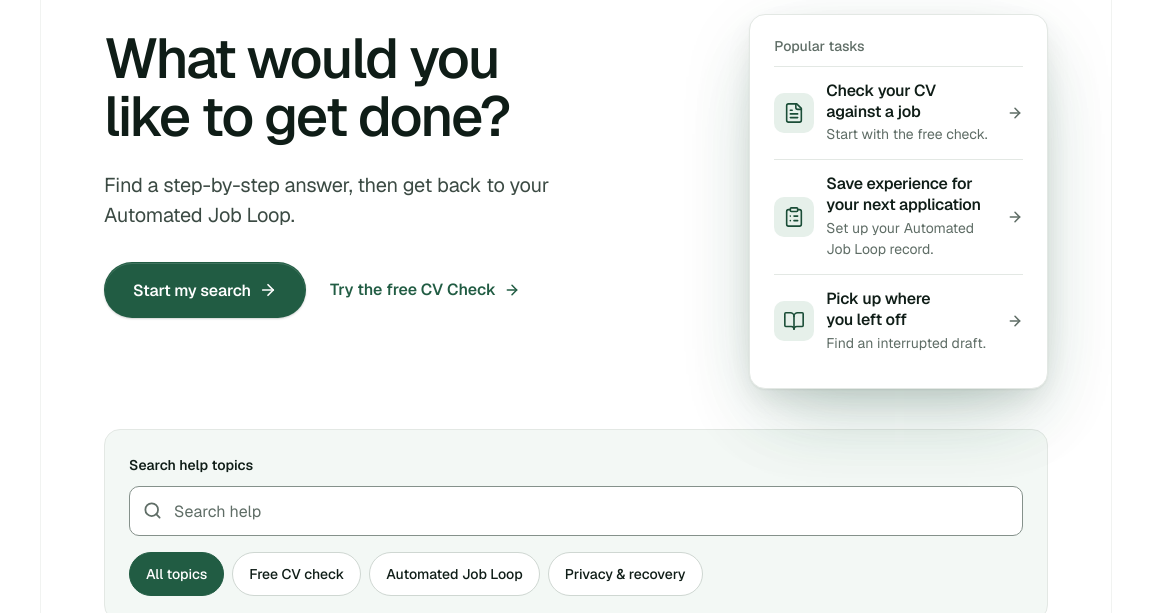
Test: task-focused public help › filters by task, announces results and recovers from an empty search
Click the button "Privacy & recovery" at point(625, 574), box [548,552,703,596]
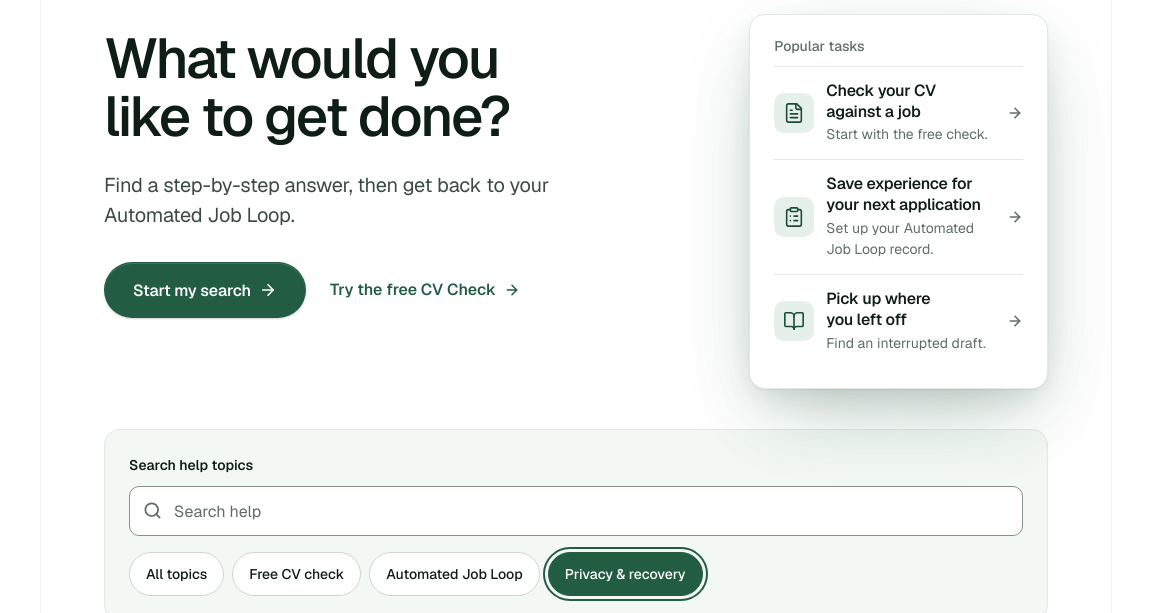
expect the button "Privacy & recovery" is pressed: met, box [548,552,703,596]
Type "no-such-help-topic" into the search field at point(576, 511), box [129,486,1023,536]
(page scrolled)
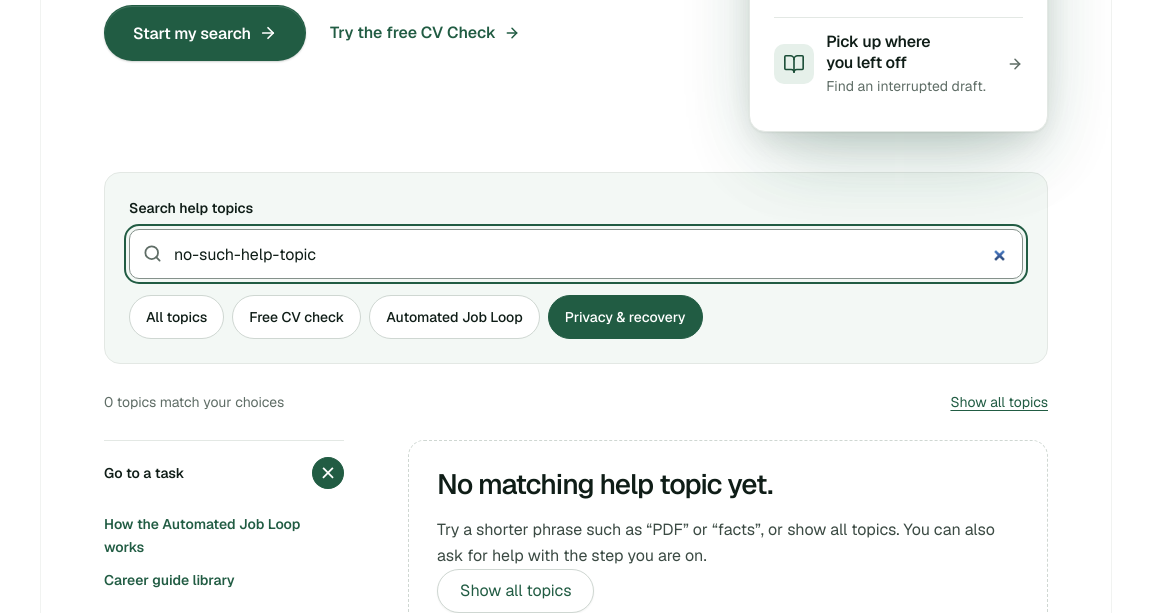
expect the heading "No matching help topic yet." is shown: met, box [437,466,772,502]
Click the button "Show all topics" in the row of "match your choices" at point(999, 402), box [950,380,1048,424]
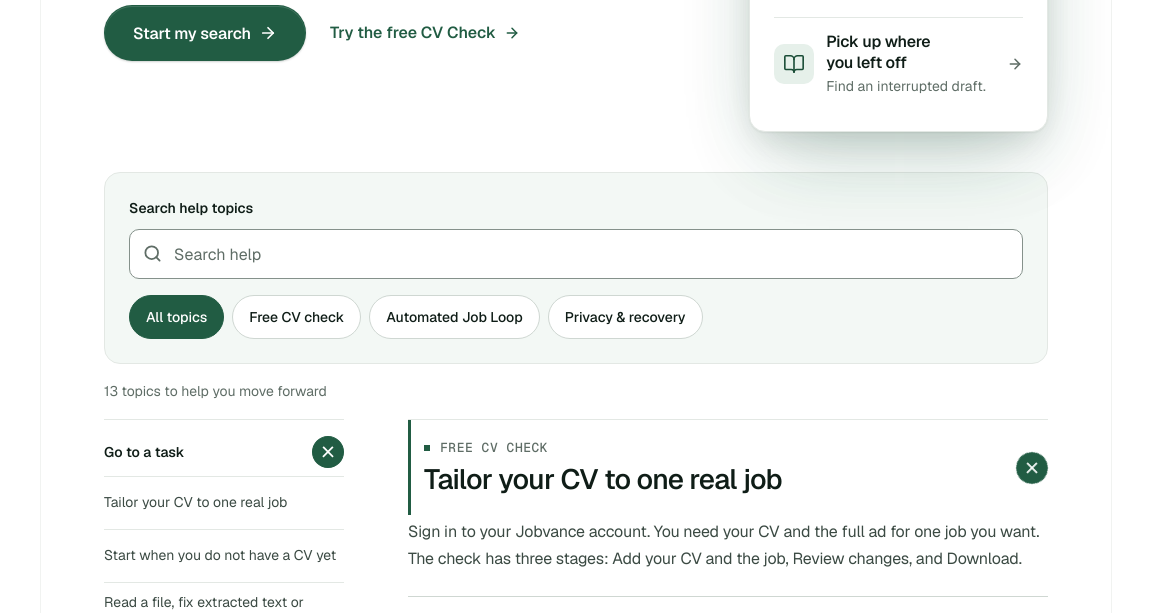
expect the search field is empty: met, box [129,229,1023,279]
expect the message shows "13 topics": met, box [104,380,327,403]
